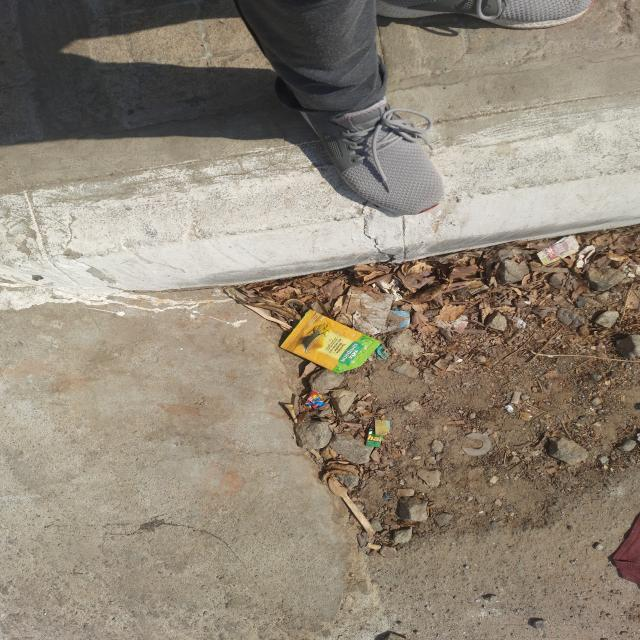Garbage: (223, 226, 640, 448)
Plastic_wraper: (282, 311, 380, 372), (537, 235, 580, 265), (305, 391, 323, 409)
